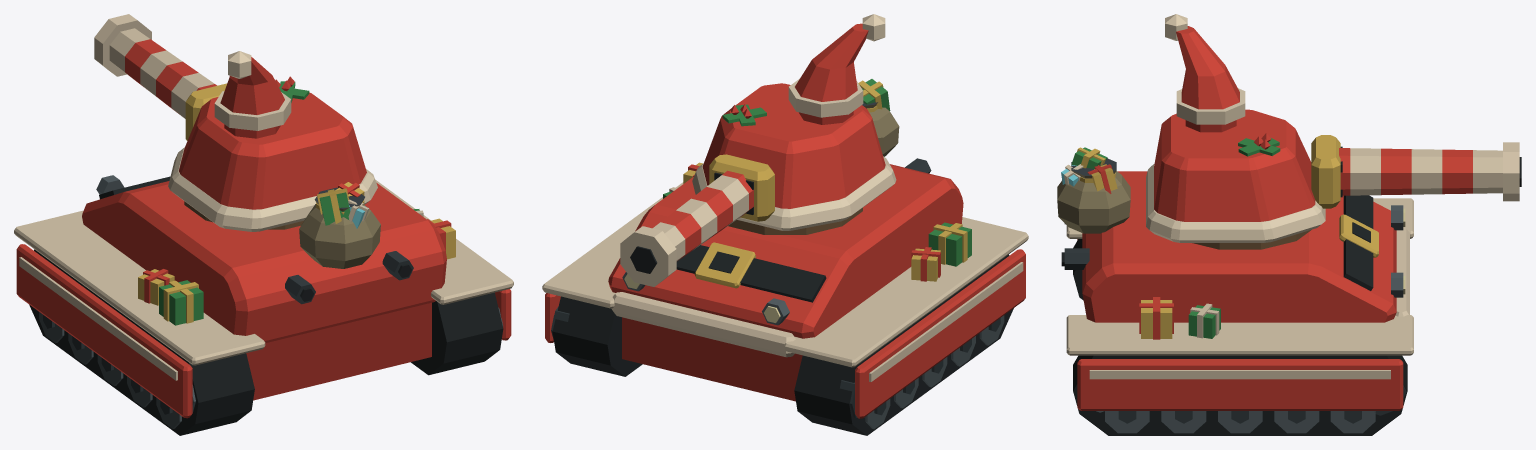
The picture shows the model from 3 angles, left to right: view 1: azimuth 30°, elevation 25°; view 2: azimuth 150°, elevation 25°; view 3: azimuth 270°, elevation 25°; orthographic projection. The views are drawn at different scales.
Parts seen in each view (by area): view 1: santa_hull, santa_turret; view 2: santa_hull, santa_turret; view 3: santa_hull, santa_turret.
Boxes of the visible parts, x1,y1,x2,y2 form: santa_hull: (14, 175, 513, 435); santa_turret: (94, 14, 377, 231); santa_hull: (542, 79, 1028, 435); santa_turret: (620, 14, 896, 286); santa_hull: (1057, 147, 1413, 435); santa_turret: (1146, 14, 1521, 249).
Bounding box in the file's own units: 0.884 × 0.8533 × 1.11.
